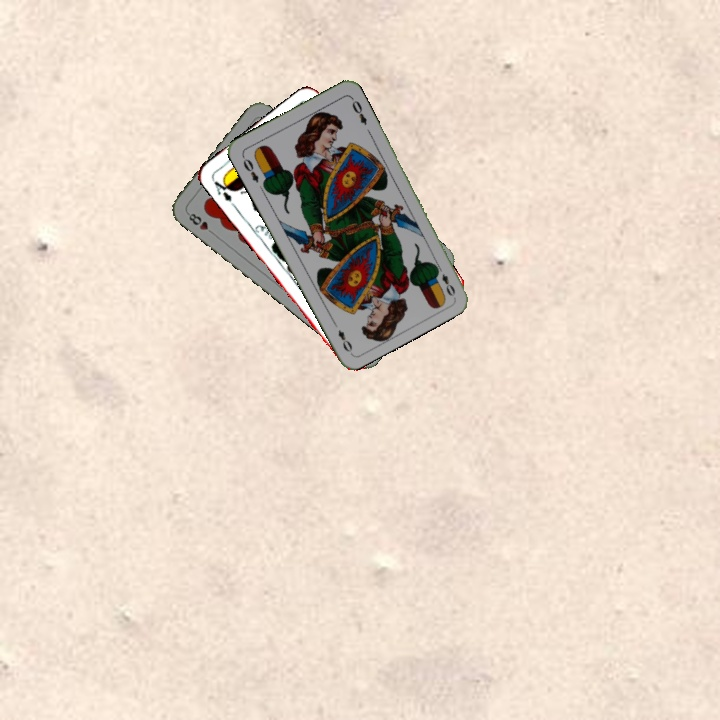EA: (208, 174, 238, 210)
EO: (432, 261, 458, 299), (238, 152, 261, 185)
H8: (183, 208, 218, 238)
